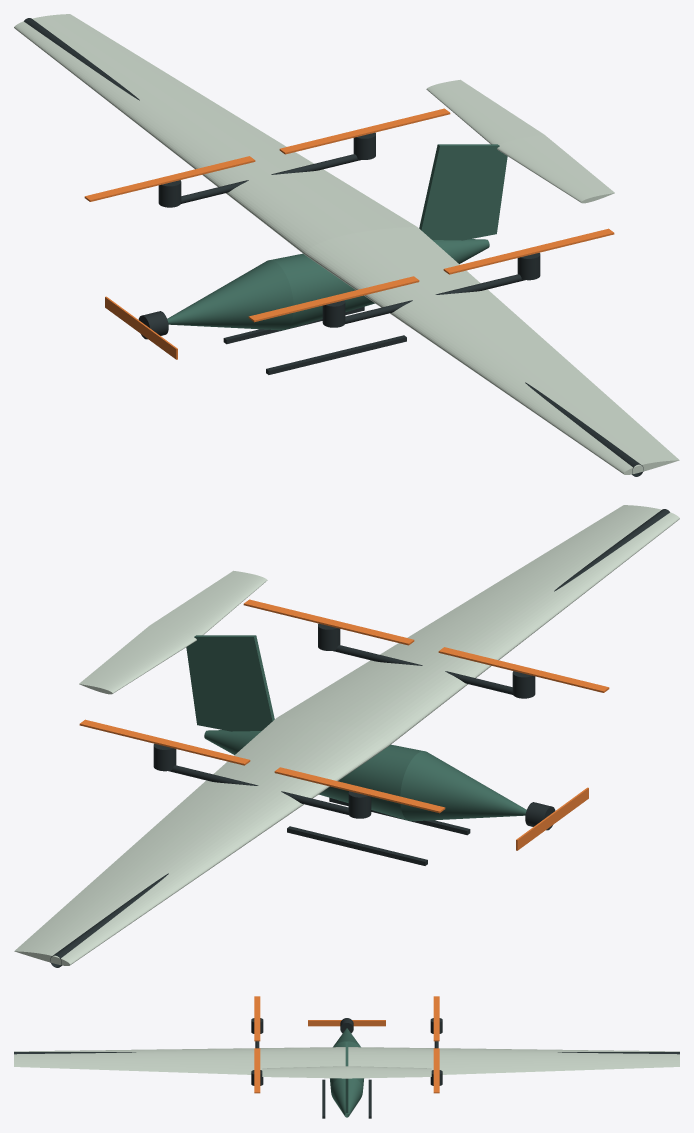
3 renders of one model, top to bottom at view 1: azimuth 30°, elevation 25°; view 2: azimuth 150°, elevation 25°; view 3: azimuth 270°, elevation 25°, orthographic. The views are drawn at different scales.
Parts seen in each view (by area): view 1: wing-1, wing1, fuselage, fin, tail-1, tail1, wing_spar, prop_-1_220.0, prop_-1_700.0, prop_1_220.0, prop_1_700.0, skid-1 (+3 smaller); view 2: wing1, wing-1, fuselage, fin, tail1, tail-1, wing_spar, prop_1_220.0, prop_1_700.0, prop_-1_220.0, prop_-1_700.0, skid1 (+3 smaller); view 3: wing-1, wing1, fuselage, tail-1, tail1, cruise_prop, wing_spar, prop_-1_220.0, prop_-1_700.0, prop_1_220.0, prop_1_700.0, fin.
Part boxes in pixels (x1,y1,x2,y2): wing-1: [305, 227, 679, 474]; wing1: [14, 14, 416, 254]; fuselage: [167, 239, 489, 330]; fin: [419, 144, 507, 240]; tail-1: [497, 134, 614, 203]; tail1: [426, 79, 543, 144]; wing_spar: [24, 18, 643, 476]; prop_-1_220.0: [248, 276, 419, 322]; prop_-1_700.0: [443, 228, 614, 274]; prop_1_220.0: [84, 156, 255, 201]; prop_1_700.0: [279, 108, 450, 154]; skid-1: [266, 335, 406, 374]; wing1: [14, 718, 388, 965]; wing-1: [277, 505, 679, 745]; fuselage: [204, 730, 526, 821]; fin: [186, 635, 274, 731]; tail1: [79, 625, 196, 694]; tail-1: [150, 570, 267, 635]; wing_spar: [50, 509, 669, 967]; prop_1_220.0: [274, 767, 445, 813]; prop_1_700.0: [79, 719, 250, 765]; prop_-1_220.0: [438, 647, 609, 692]; prop_-1_700.0: [243, 599, 414, 645]; skid1: [287, 826, 427, 865]; wing-1: [14, 1047, 345, 1074]; wing1: [348, 1047, 679, 1074]; fuselage: [330, 1028, 363, 1117]; tail-1: [262, 1066, 346, 1078]; tail1: [347, 1066, 431, 1078]; cruise_prop: [308, 1020, 385, 1026]; wing_spar: [14, 1052, 679, 1054]; prop_-1_220.0: [254, 996, 260, 1041]; prop_-1_700.0: [254, 1048, 260, 1093]; prop_1_220.0: [433, 996, 439, 1041]; prop_1_700.0: [433, 1048, 439, 1093]; fin: [345, 1042, 348, 1112].
Size of the model in its own units: 994 by 392 by 2600.
